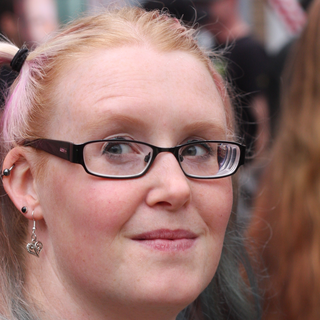eye: (98, 134, 139, 161), (178, 139, 215, 163)
